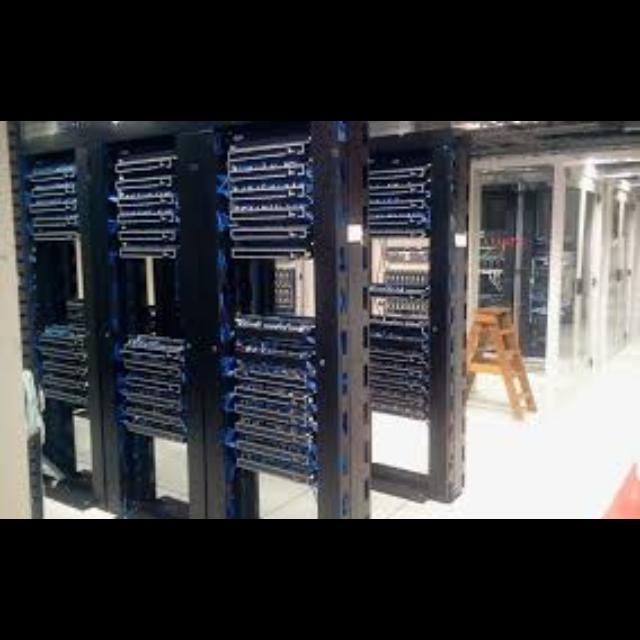Server: (196, 121, 368, 519), (362, 122, 466, 520)
